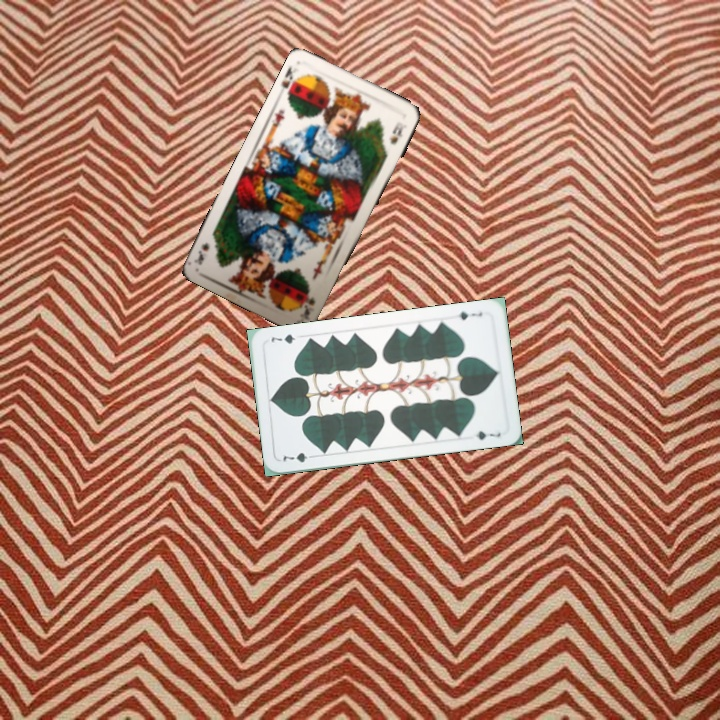G7: (279, 449, 318, 465), (455, 307, 485, 322)
SK: (277, 62, 300, 101), (296, 292, 318, 323)
